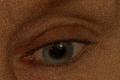eye: (43, 43, 73, 64)
